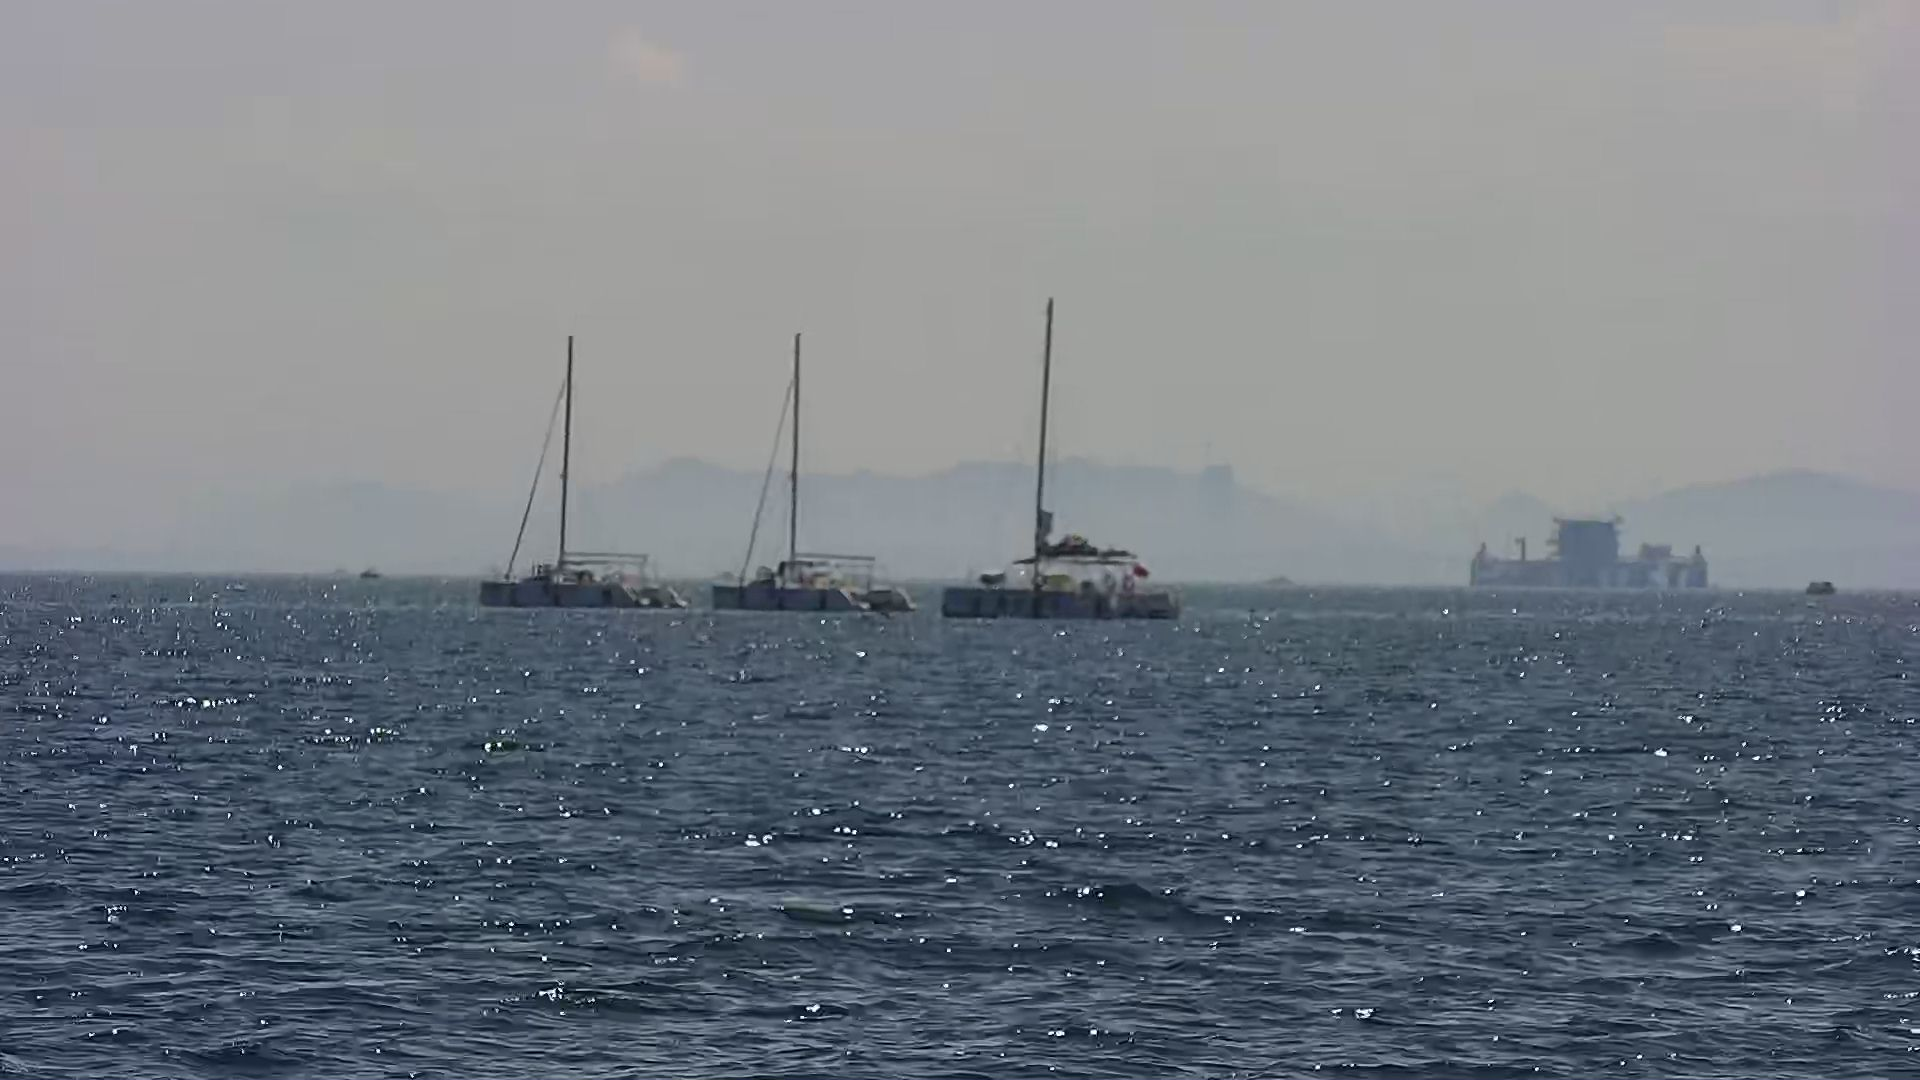boat: (944, 294, 1183, 626), (473, 324, 702, 616), (708, 332, 913, 615)
platform: (1470, 510, 1720, 597)
